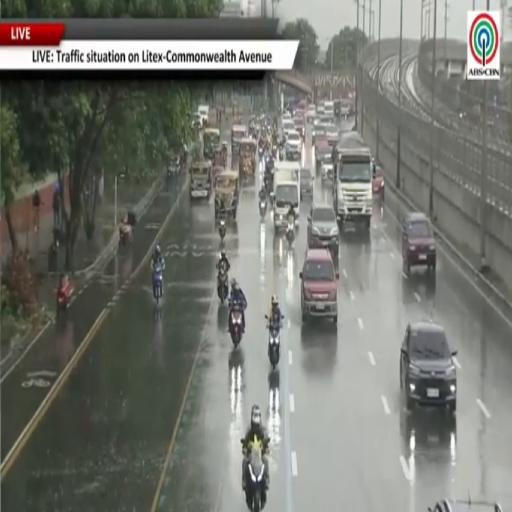car: (400, 323, 456, 411), (300, 249, 338, 324), (402, 213, 436, 274), (307, 204, 339, 260), (428, 500, 503, 511), (285, 131, 302, 159), (300, 168, 313, 199), (373, 165, 384, 200), (312, 122, 326, 145), (325, 124, 339, 146), (321, 162, 333, 182), (198, 105, 209, 126), (294, 118, 305, 139), (282, 120, 294, 137), (306, 104, 315, 122), (320, 115, 334, 124), (316, 103, 324, 115), (282, 112, 291, 121)
jeepney: (215, 171, 239, 219), (190, 160, 212, 199), (239, 138, 257, 177), (203, 128, 220, 158), (231, 124, 247, 155), (213, 147, 225, 167), (213, 166, 224, 183)
motorcycle: (243, 437, 267, 511), (265, 315, 284, 369), (57, 280, 73, 316), (229, 303, 242, 347), (218, 265, 229, 303), (153, 264, 163, 303), (119, 223, 132, 245), (286, 218, 294, 246), (259, 198, 267, 219), (219, 218, 226, 242), (264, 174, 271, 195), (279, 144, 284, 161), (269, 191, 275, 205), (272, 144, 277, 158), (259, 146, 263, 158)
truck: (333, 132, 372, 229), (273, 162, 300, 230)
